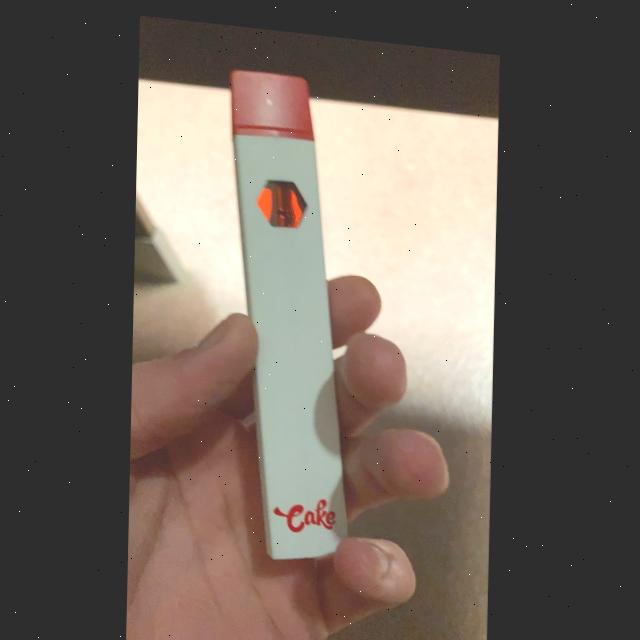vape: (223, 61, 359, 566)
